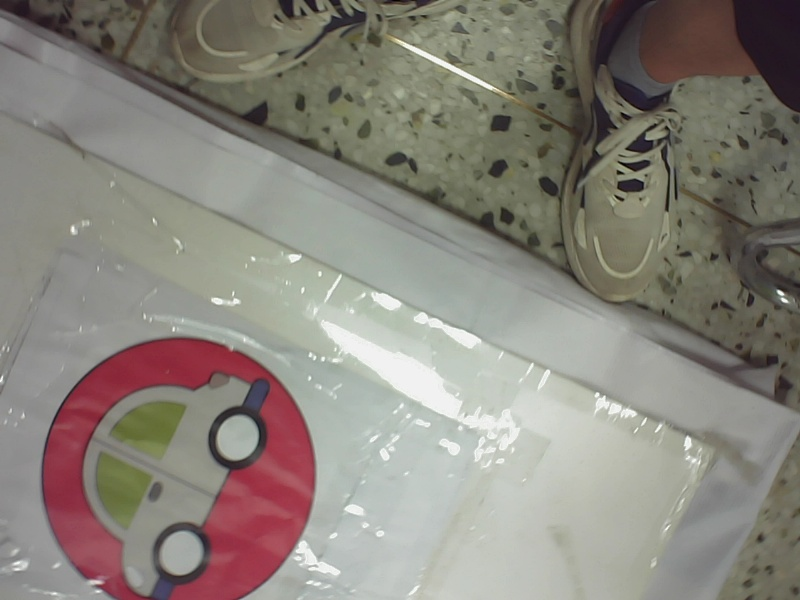areaC: (33, 338, 322, 598)
